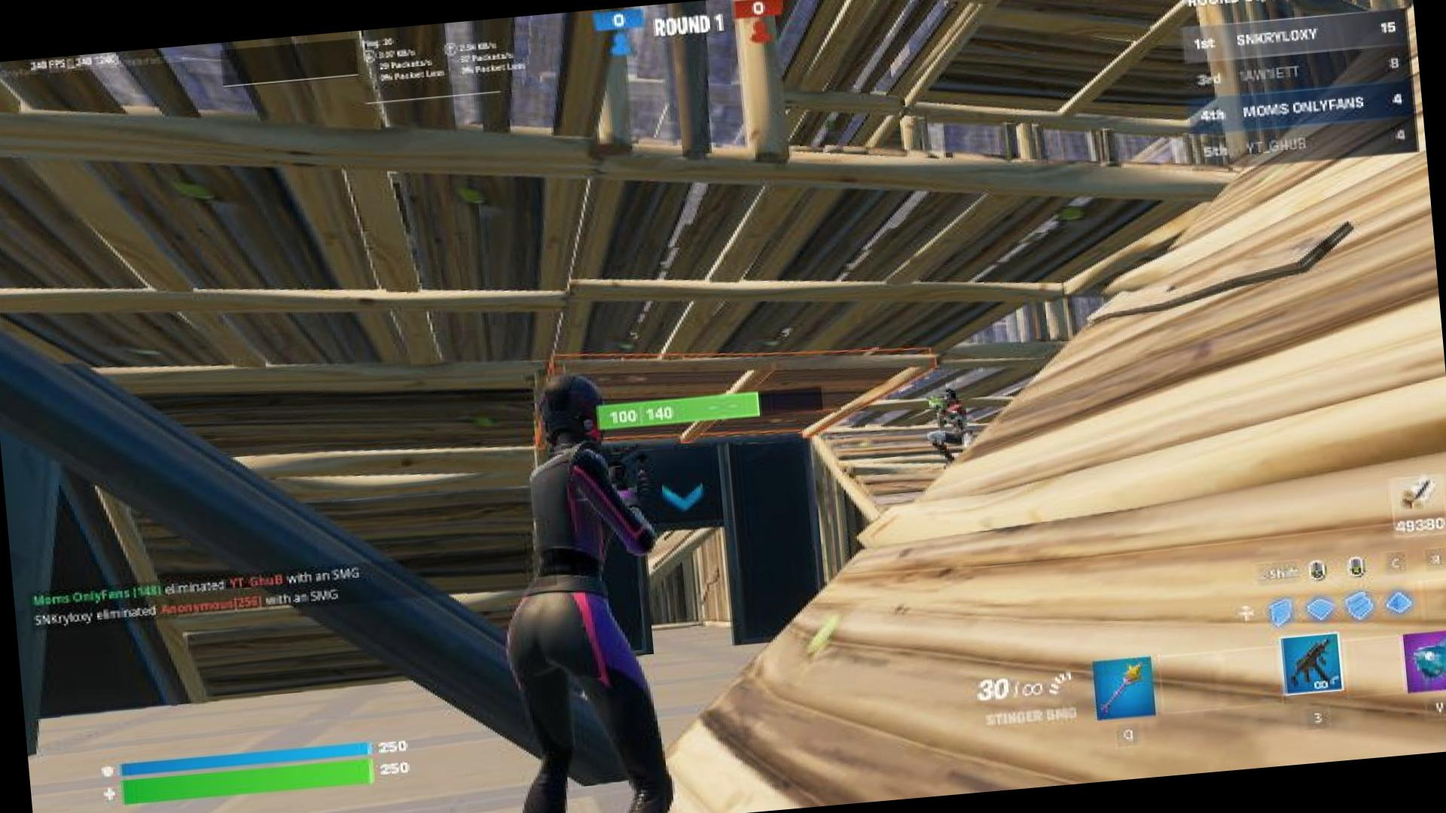player: (916, 379, 979, 467)
